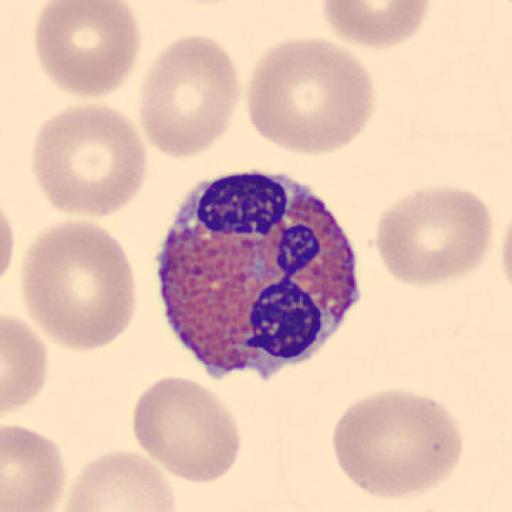RBC: (245, 35, 378, 157), (18, 218, 138, 353), (330, 386, 465, 501), (30, 101, 148, 219), (137, 32, 241, 160), (374, 182, 495, 288), (132, 374, 242, 485), (32, 0, 144, 100), (57, 448, 178, 512), (1, 424, 67, 511), (320, 0, 432, 48), (2, 312, 48, 416), (0, 204, 16, 284), (499, 208, 512, 294)
WBC: (155, 170, 364, 380)
